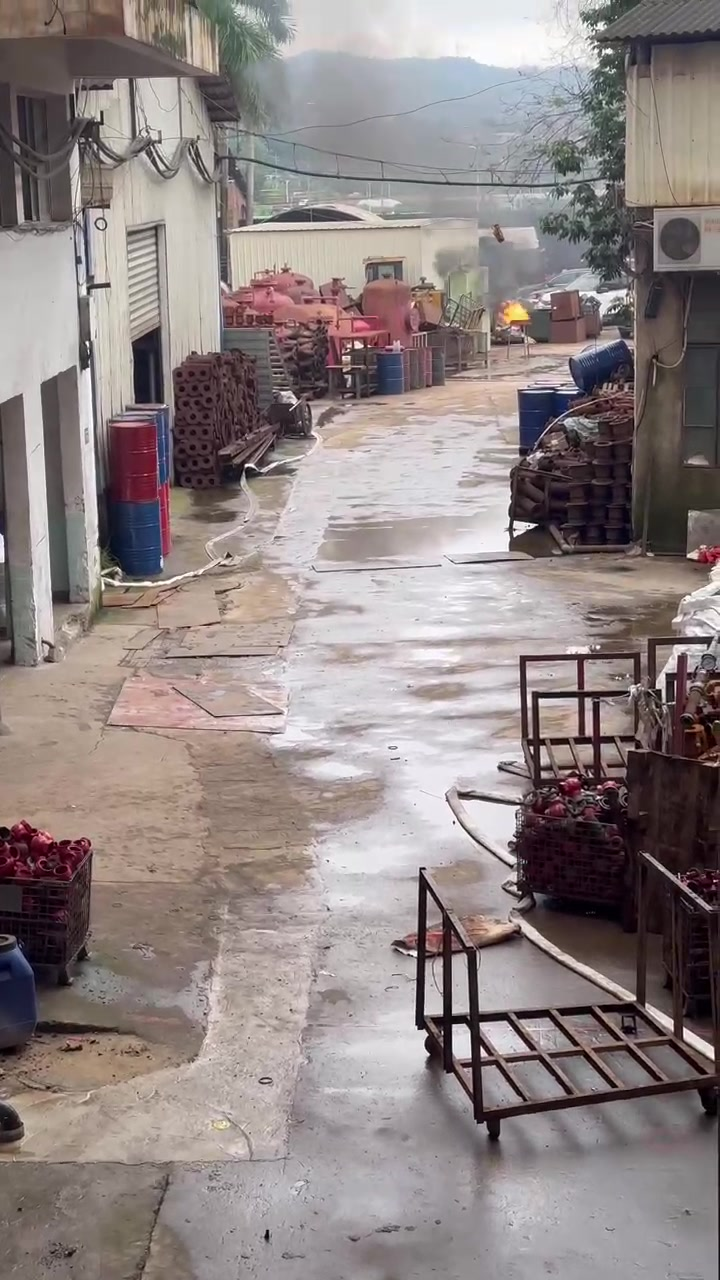fire: (503, 302, 528, 323)
